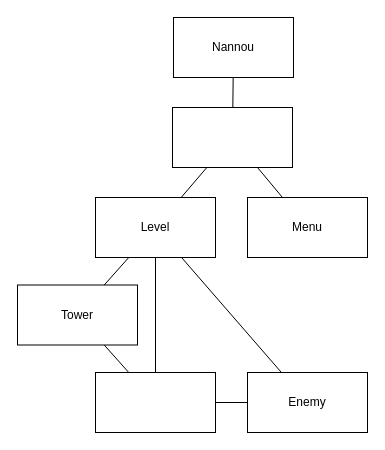
This 385x450 diagram has some shape labels left out. The centre of each missing label's shape, as x and y in pixels:
Game: the point at 232,137
Projectile: the point at 155,402
